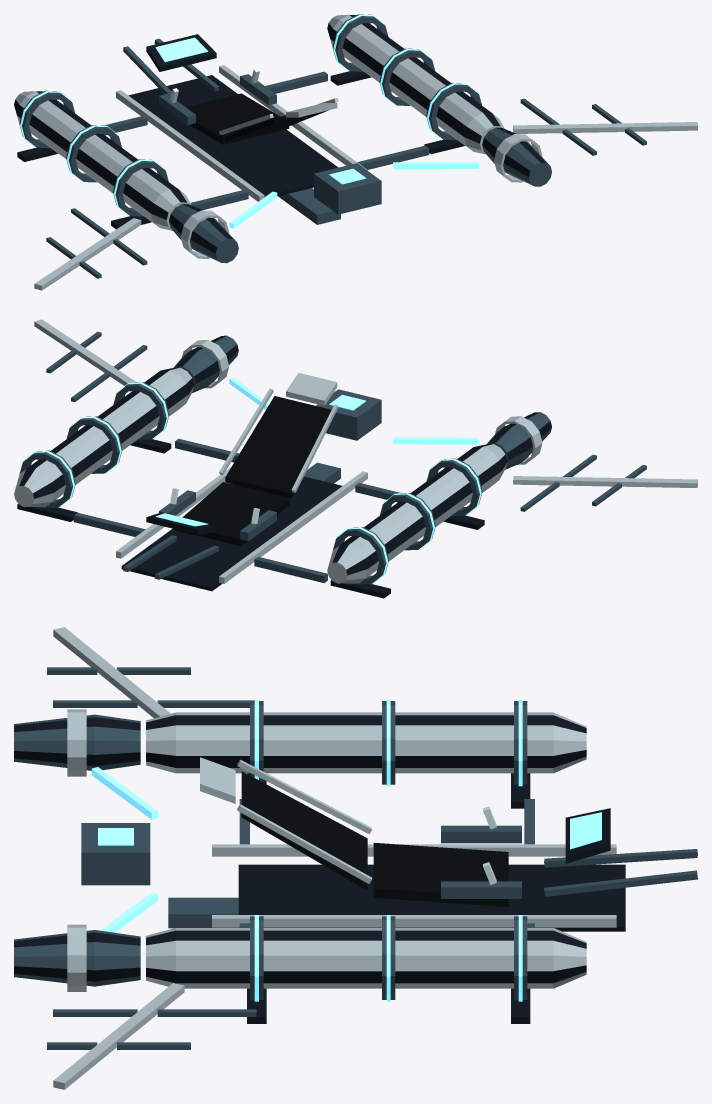
Rendered from SweptDart_Interior.fbx.
3 renders of one model, top to bottom at view 1: azimuth 30°, elevation 25°; view 2: azimuth 150°, elevation 25°; view 3: azimuth 270°, elevation 25°, orthographic. The views are drawn at different scales.
Visible parts, largest first — view 1: Interior_Chassis, Interior_Engine_L, Interior_Engine_R, Interior_Cockpit, Interior_Services, Interior_Spar_R, Interior_Spar_L; view 2: Interior_Cockpit, Interior_Chassis, Interior_Engine_R, Interior_Engine_L, Interior_Services, Interior_Spar_L, Interior_Spar_R; view 3: Interior_Engine_R, Interior_Engine_L, Interior_Chassis, Interior_Cockpit, Interior_Services, Interior_Spar_R, Interior_Spar_L.
Boxes of the visible parts, bbox=[...] form: Interior_Chassis: bbox=[17, 65, 464, 229]; Interior_Engine_L: bbox=[14, 90, 238, 263]; Interior_Engine_R: bbox=[327, 14, 551, 186]; Interior_Cockpit: bbox=[123, 34, 338, 144]; Interior_Services: bbox=[229, 162, 478, 228]; Interior_Spar_R: bbox=[513, 98, 697, 155]; Interior_Spar_L: bbox=[34, 208, 147, 290]; Interior_Cockpit: bbox=[123, 373, 338, 579]; Interior_Chassis: bbox=[17, 438, 484, 598]; Interior_Engine_R: bbox=[14, 335, 238, 508]; Interior_Engine_L: bbox=[327, 412, 551, 584]; Interior_Services: bbox=[229, 378, 478, 444]; Interior_Spar_L: bbox=[513, 454, 697, 511]; Interior_Spar_R: bbox=[34, 319, 147, 402]; Interior_Engine_R: bbox=[14, 915, 586, 1001]; Interior_Engine_L: bbox=[14, 699, 586, 786]; Interior_Chassis: bbox=[168, 773, 625, 1023]; Interior_Cockpit: bbox=[200, 757, 697, 906]; Interior_Services: bbox=[81, 767, 157, 932]; Interior_Spar_R: bbox=[47, 983, 256, 1089]; Interior_Spar_L: bbox=[47, 627, 254, 718].
Bounding box in the file's own units: 3.6 × 0.551 × 2.28.
